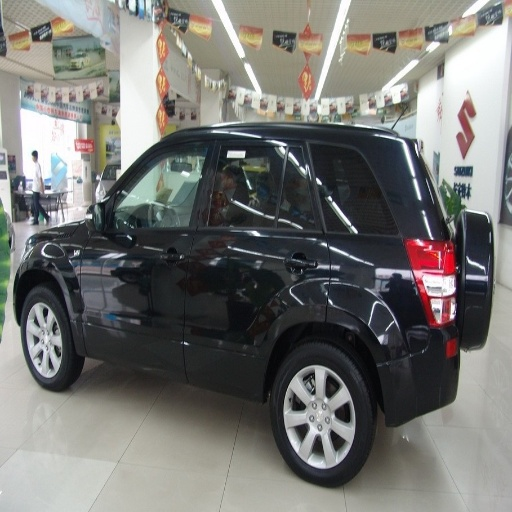back_bumper: (386, 358, 429, 420)
back_glass: (353, 139, 428, 209)
back_left_door: (183, 139, 330, 392)
